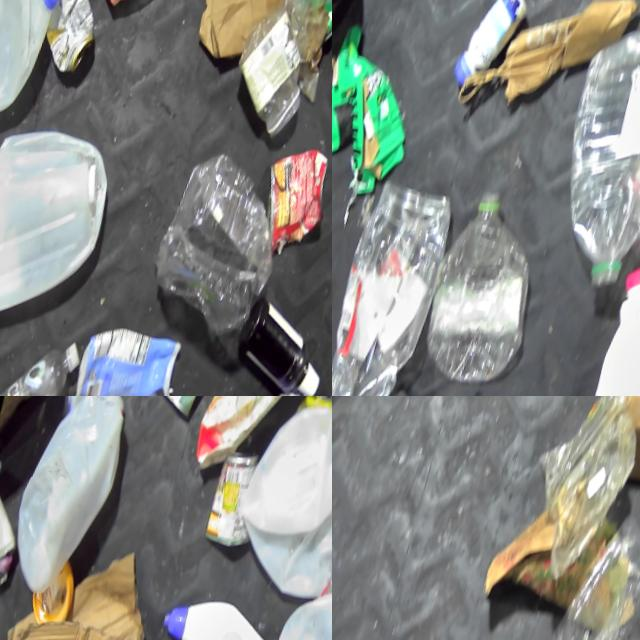can: (244, 137, 332, 265), (198, 443, 264, 548), (27, 0, 114, 76)
milk_jug: (0, 112, 124, 342), (0, 396, 136, 591), (223, 396, 332, 591), (0, 0, 76, 130), (576, 258, 640, 396)
non_white_jug: (332, 20, 426, 196)
plastic_bottle: (535, 20, 640, 293), (414, 179, 550, 387), (0, 335, 168, 396), (0, 320, 82, 396)
